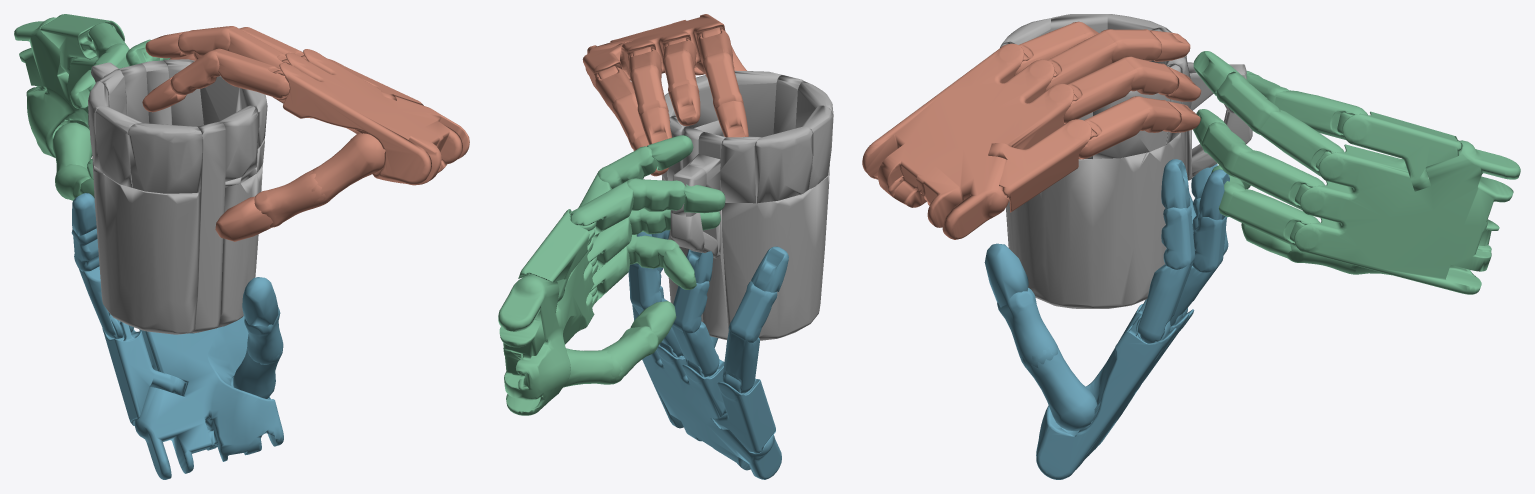
The picture shows the model from 3 angles, left to right: view 1: azimuth 30°, elevation 25°; view 2: azimuth 150°, elevation 25°; view 3: azimuth 270°, elevation 25°; orthographic projection. The views are drawn at different scales.
Size of the model in its own units: 0.2094 by 0.2823 by 0.3683.
